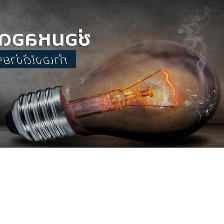light_bulb: (1, 35, 223, 147)
